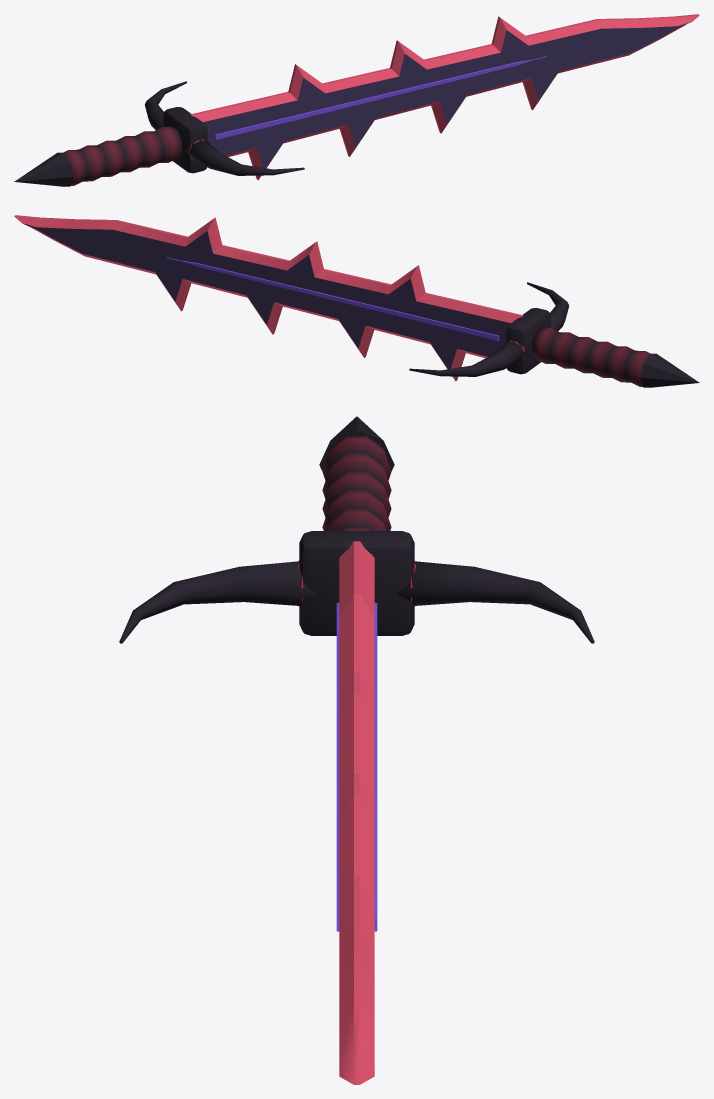
Rendered from sword_jagged.glb.
The picture shows the model from 3 angles, top to bottom: view 1: azimuth 30°, elevation 25°; view 2: azimuth 150°, elevation 25°; view 3: azimuth 270°, elevation 25°; orthographic projection. The views are drawn at different scales.
Visible parts, largest first — view 1: sword_jagged; view 2: sword_jagged; view 3: sword_jagged.
Boxes of the visible parts, box(x1,y1,x2,y2) form: sword_jagged: box(14, 14, 699, 186); sword_jagged: box(14, 215, 699, 387); sword_jagged: box(119, 416, 594, 1084).
Bounding box in the file's own units: 1.51 × 0.2233 × 0.4537.
